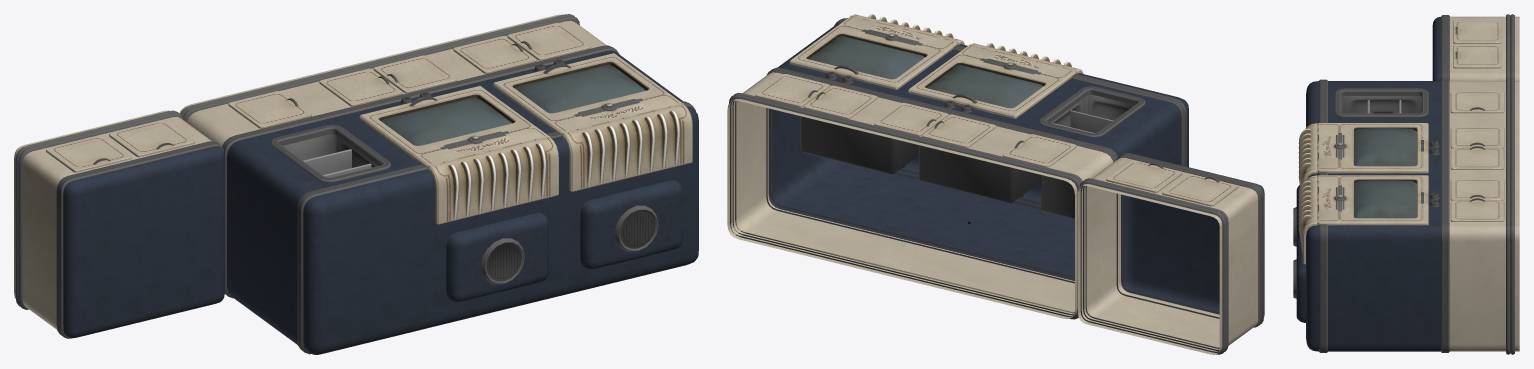
Rendered from nt_2020_grill_LOD0.obj.
3 views of the same model, side by side, from view 1: azimuth 30°, elevation 25°; view 2: azimuth 150°, elevation 25°; view 3: azimuth 270°, elevation 25° (orthographic). The views are drawn at different scales.
Visible parts, largest first — view 1: mp_b_laminate_blue, mtl_nt_2020_grill_doors, nt_2020_metal_beige, nt_2020_metal_brushed, com_glass_clear, nt_2020_metal_brushed_trim, mtl_nt_2020_grill_inside; view 2: mp_b_laminate_blue, nt_2020_metal_beige, mtl_nt_2020_grill_doors, nt_2020_metal_brushed, mtl_nt_2020_grill_inside, com_glass_clear, nt_2020_metal_brushed_trim; view 3: mp_b_laminate_blue, mtl_nt_2020_grill_doors, nt_2020_metal_beige, nt_2020_metal_brushed, com_glass_clear, nt_2020_metal_brushed_trim, mtl_nt_2020_grill_inside.
Part boxes in pixels (<box>): mp_b_laminate_blue: <box>63,50,698,354</box>; mtl_nt_2020_grill_doors: <box>46,22,692,281</box>; nt_2020_metal_beige: <box>14,14,606,329</box>; nt_2020_metal_brushed: <box>15,14,695,354</box>; com_glass_clear: <box>381,64,645,145</box>; nt_2020_metal_brushed_trim: <box>56,41,692,351</box>; mtl_nt_2020_grill_inside: <box>283,134,377,177</box>; mp_b_laminate_blue: <box>768,18,1264,316</box>; nt_2020_metal_beige: <box>727,72,1258,354</box>; mtl_nt_2020_grill_doors: <box>755,14,1238,224</box>; nt_2020_metal_brushed: <box>729,21,1260,354</box>; mtl_nt_2020_grill_inside: <box>800,94,1134,224</box>; com_glass_clear: <box>809,36,1043,108</box>; nt_2020_metal_brushed_trim: <box>769,18,1264,325</box>; mp_b_laminate_blue: <box>1296,17,1441,351</box>; mtl_nt_2020_grill_doors: <box>1298,20,1504,264</box>; nt_2020_metal_beige: <box>1449,16,1519,351</box>; nt_2020_metal_brushed: <box>1293,14,1514,354</box>; com_glass_clear: <box>1354,128,1416,218</box>; nt_2020_metal_brushed_trim: <box>1320,15,1485,352</box>; mtl_nt_2020_grill_inside: <box>1341,96,1421,113</box>.
Bounding box in the file's own units: 469 × 135 × 205.
